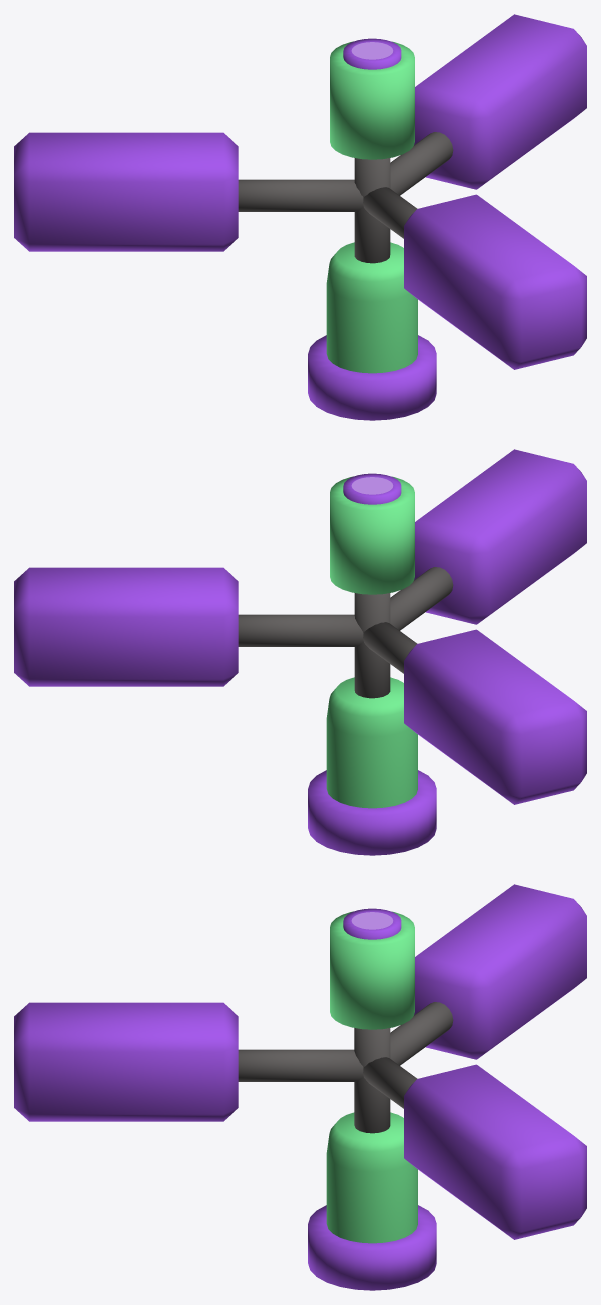
The model's file is Obstacle 12 V4.fbx.
3 views of the same model, one above another, from view 1: azimuth 30°, elevation 25°; view 2: azimuth 150°, elevation 25°; view 3: azimuth 270°, elevation 25° (orthographic).
Parts seen in each view (by area): view 1: O12 Part 1, O12 Part 2; view 2: O12 Part 1, O12 Part 2; view 3: O12 Part 1, O12 Part 2.
Part boxes in pixels (x1=…): O12 Part 1: x1=14, y1=14, x2=586, y2=369; O12 Part 2: x1=308, y1=38, x2=436, y2=420; O12 Part 1: x1=14, y1=449, x2=586, y2=804; O12 Part 2: x1=308, y1=473, x2=436, y2=855; O12 Part 1: x1=14, y1=884, x2=586, y2=1239; O12 Part 2: x1=308, y1=908, x2=436, y2=1290.
Size of the model in its own units: 229 by 132 by 200.
1 material, 1 textured.
